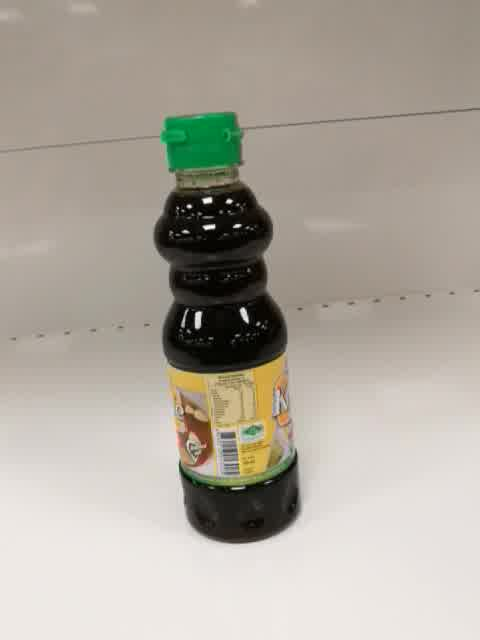cookingoil: (152, 109, 303, 547)
